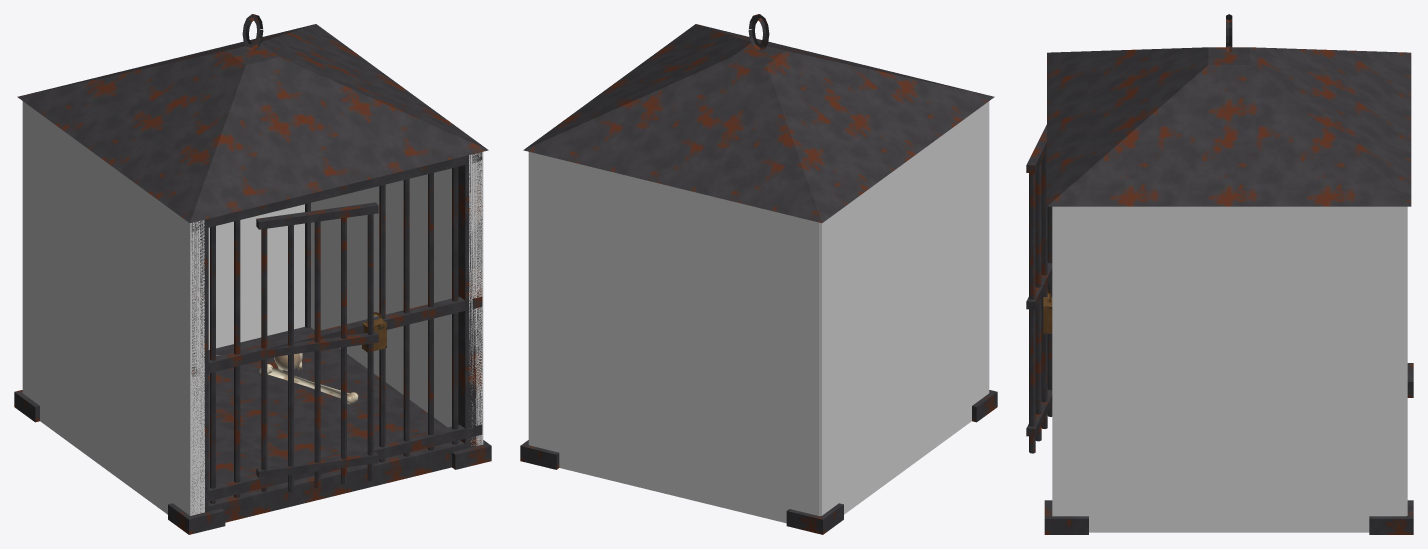
File: prison_cage.glb
3 views of the same model, side by side, from view 1: azimuth 30°, elevation 25°; view 2: azimuth 150°, elevation 25°; view 3: azimuth 270°, elevation 25° (orthographic). The views are drawn at different scales.
Parts seen in each view (by area): view 1: CageIron, CageBars-convcolonly.003, CageBars-convcolonly.001, CageBars-convcolonly.002, CageBones; view 2: CageBars-convcolonly.002, CageIron, CageBars-convcolonly.003; view 3: CageBars-convcolonly.001, CageIron, CageBars-convcolonly.002.
Part boxes in pixels (bbox=[...]): CageIron: bbox=[14, 14, 491, 534]; CageBars-convcolonly.003: bbox=[22, 101, 204, 515]; CageBars-convcolonly.001: bbox=[311, 152, 483, 445]; CageBars-convcolonly.002: bbox=[208, 204, 304, 349]; CageBones: bbox=[216, 353, 358, 404]; CageBars-convcolonly.002: bbox=[529, 152, 820, 523]; CageIron: bbox=[520, 14, 997, 534]; CageBars-convcolonly.003: bbox=[820, 101, 989, 515]; CageBars-convcolonly.001: bbox=[1052, 206, 1405, 532]; CageIron: bbox=[1026, 14, 1413, 534]; CageBars-convcolonly.002: bbox=[1406, 206, 1407, 515].
Size of what is drawn, in the model's own units: 2.5 by 3.32 by 2.62.
4 materials, 3 textured.
